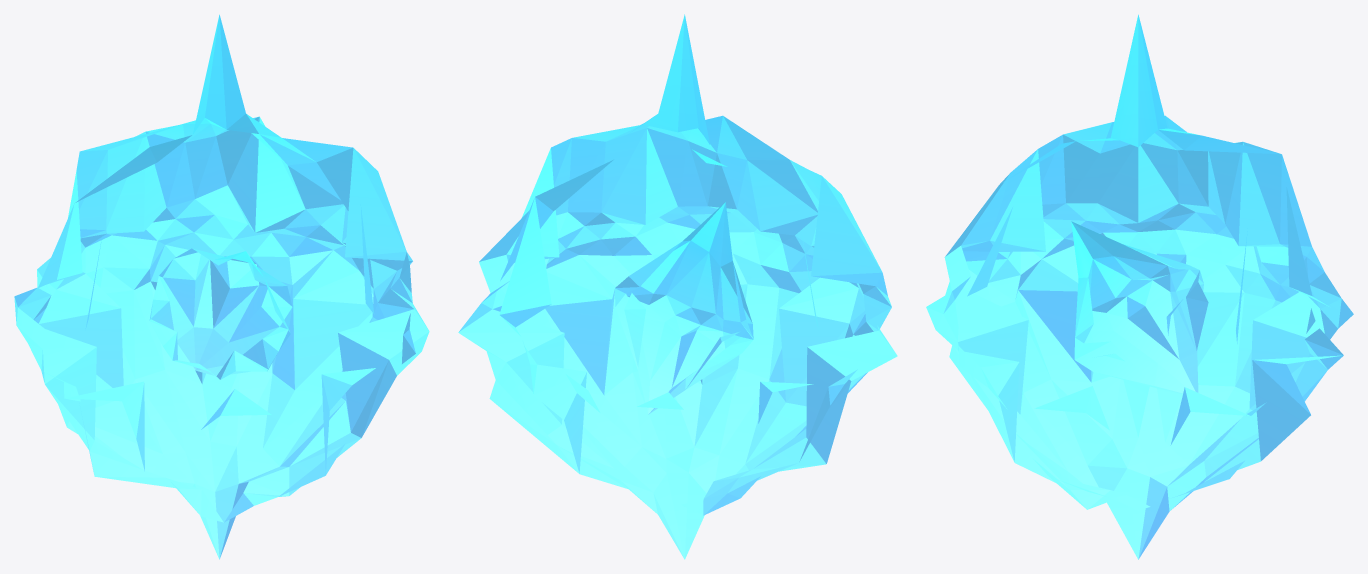
Rendered from apex.glb.
3 views of the same model, side by side, from view 1: azimuth 30°, elevation 25°; view 2: azimuth 150°, elevation 25°; view 3: azimuth 270°, elevation 25° (orthographic).
Parts seen in each view (by area): view 1: outer_apex, inner_apex; view 2: outer_apex, inner_apex; view 3: outer_apex, inner_apex.
Part boxes in pixels (box(x1,y1,x2,y2)): outer_apex: box(14, 14, 429, 559); inner_apex: box(149, 248, 292, 379); outer_apex: box(458, 14, 897, 559); inner_apex: box(615, 202, 753, 414); outer_apex: box(926, 14, 1353, 559); inner_apex: box(1071, 221, 1208, 393).
Size of the model in its own units: 5.89 by 8.37 by 5.95.
